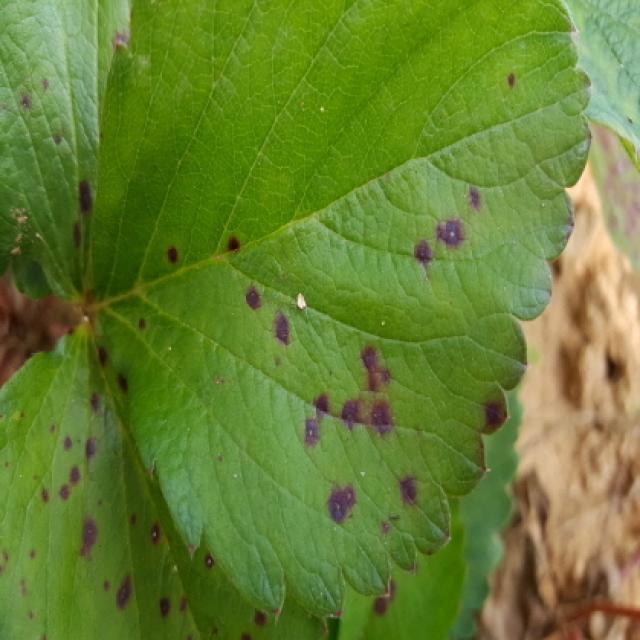Leaf Spot: (88, 0, 594, 623), (0, 316, 335, 638), (336, 396, 526, 638)
